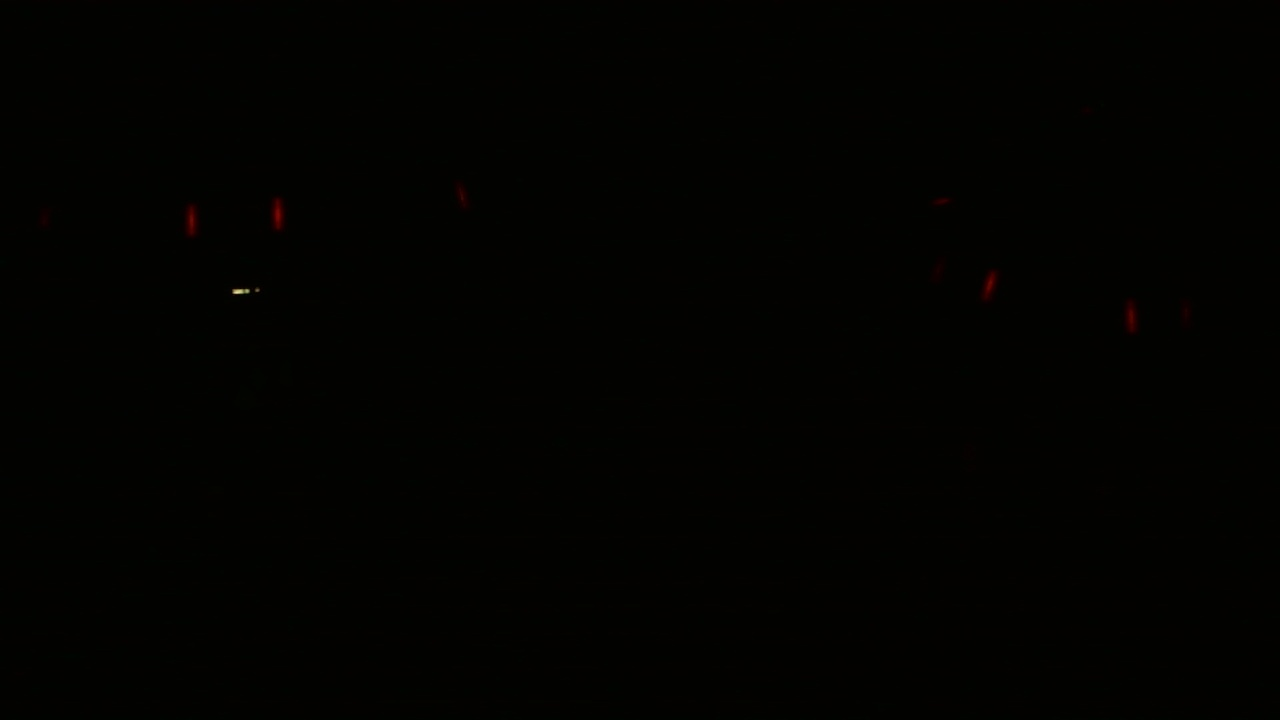pair1: (183, 198, 286, 240), (1124, 301, 1180, 336)
